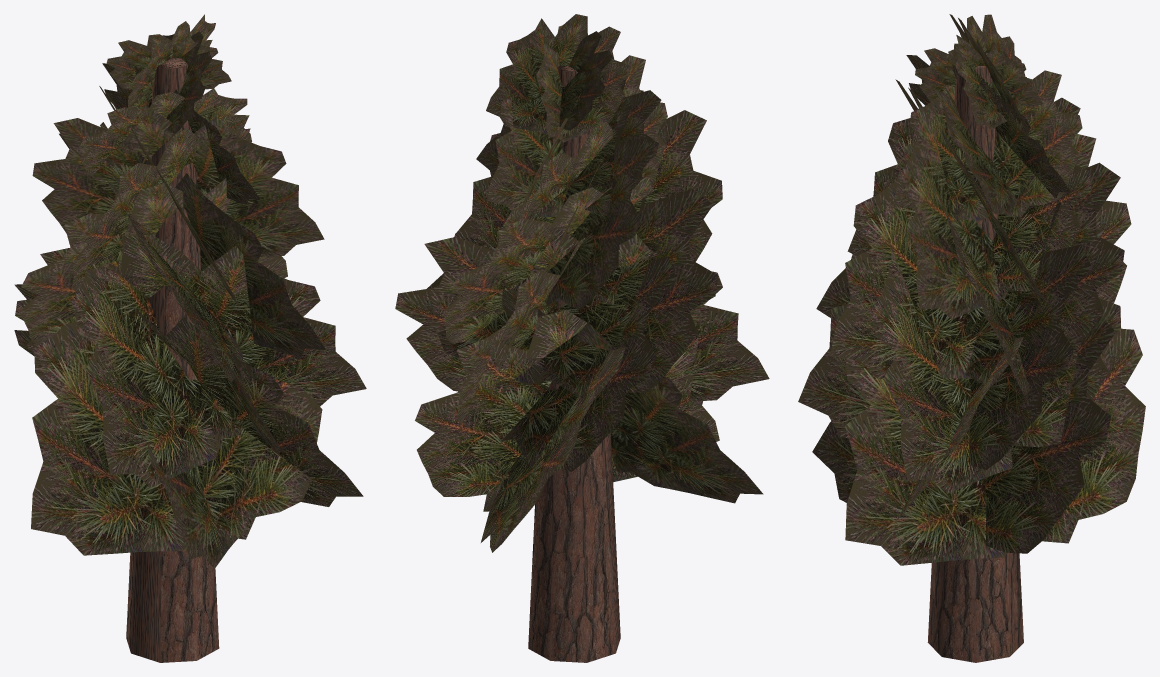
Rendered from ctree_pine_b.glb.
The picture shows the model from 3 angles, left to right: view 1: azimuth 30°, elevation 25°; view 2: azimuth 150°, elevation 25°; view 3: azimuth 270°, elevation 25°; orthographic projection.
Parts seen in each view (by area): view 1: leaf, woodBark; view 2: leaf, woodBark; view 3: leaf, woodBark.
Boxes of the visible parts, x1=… form: leaf: x1=14, y1=14, x2=366, y2=568; woodBark: x1=126, y1=58, x2=219, y2=662; leaf: x1=395, y1=14, x2=769, y2=552; woodBark: x1=528, y1=65, x2=620, y2=662; leaf: x1=798, y1=14, x2=1145, y2=565; woodBark: x1=927, y1=66, x2=1023, y2=662.
Bounding box in the file's own units: 0.586 × 1.08 × 0.5423.
Materials: 2 (2 with a texture image).
